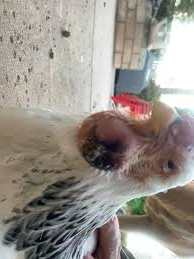Unhealthy: (6, 74, 194, 259)
